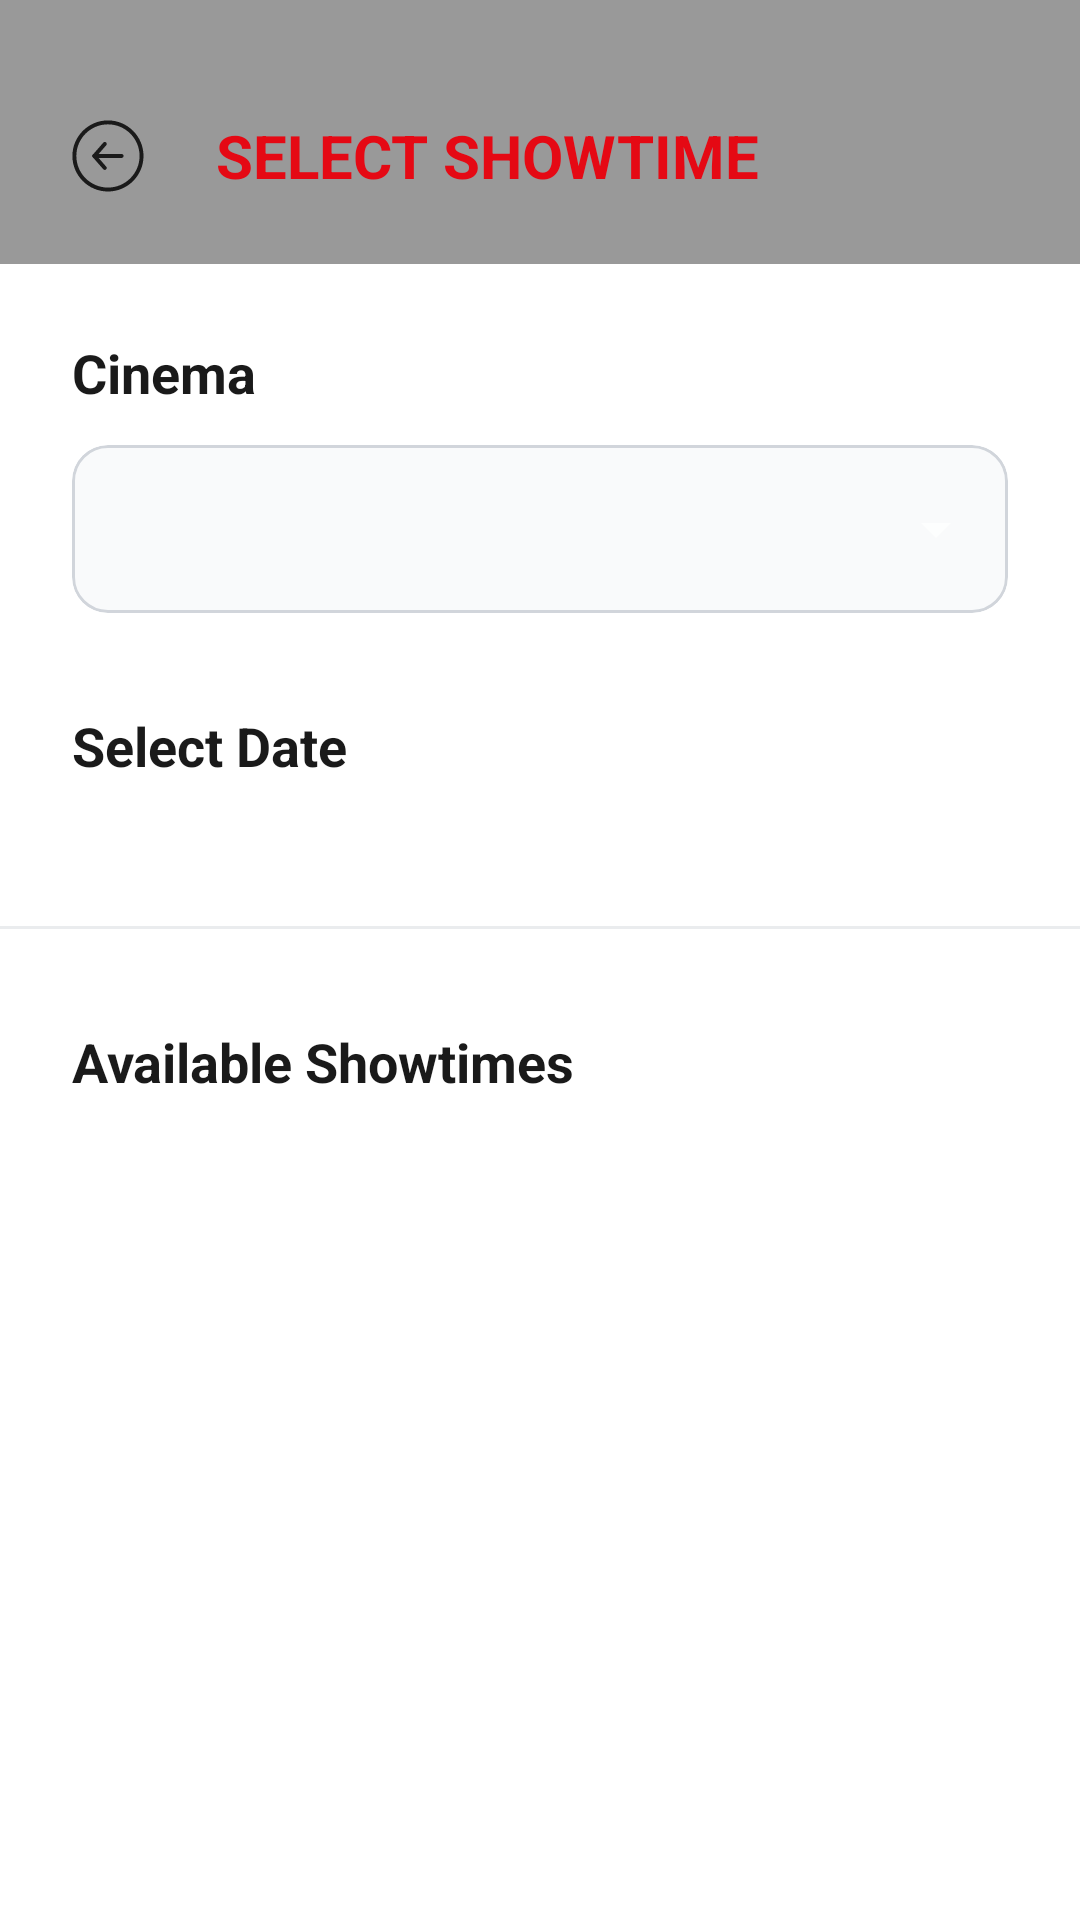

Named icons in this screenshot (1080 × 1920) and their centers, (x,y):
back: (108,156)
